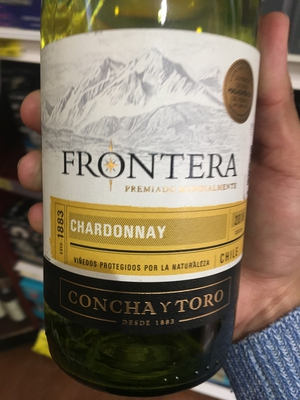frontera chardonnay: (31, 14, 269, 383)
